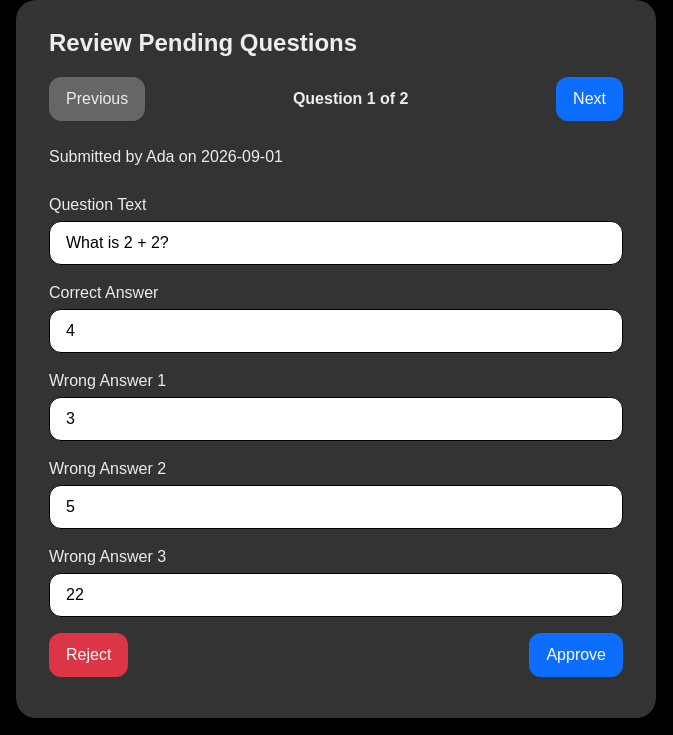
Test: PendingQuestionsReview › approves the current question with edits and shows the next one
The width and height of the screenshot is (673, 735).
Replace the text in the field labelled "Question Text" with "What is two plus two?" at point(336, 243), box [49,221,623,265]
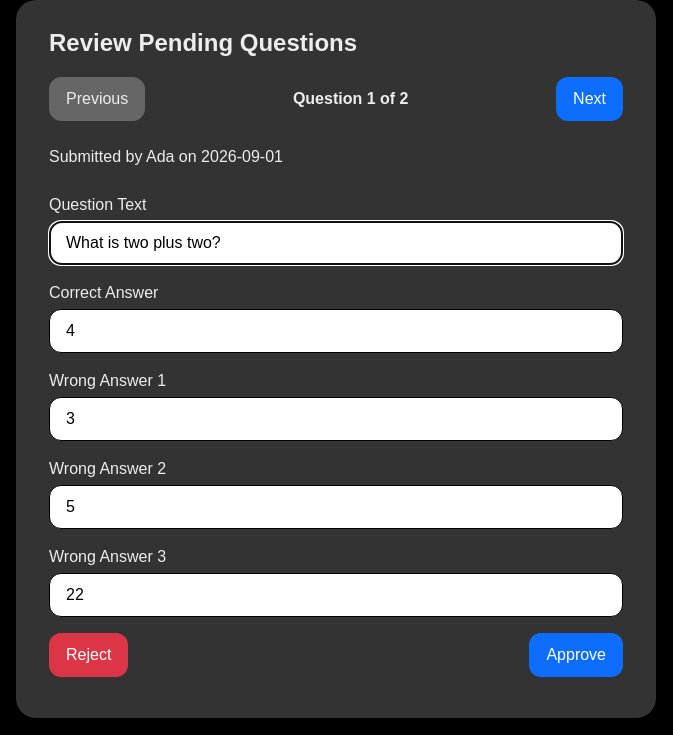
Click the button "Approve" at point(576, 655), box [529,633,623,677]
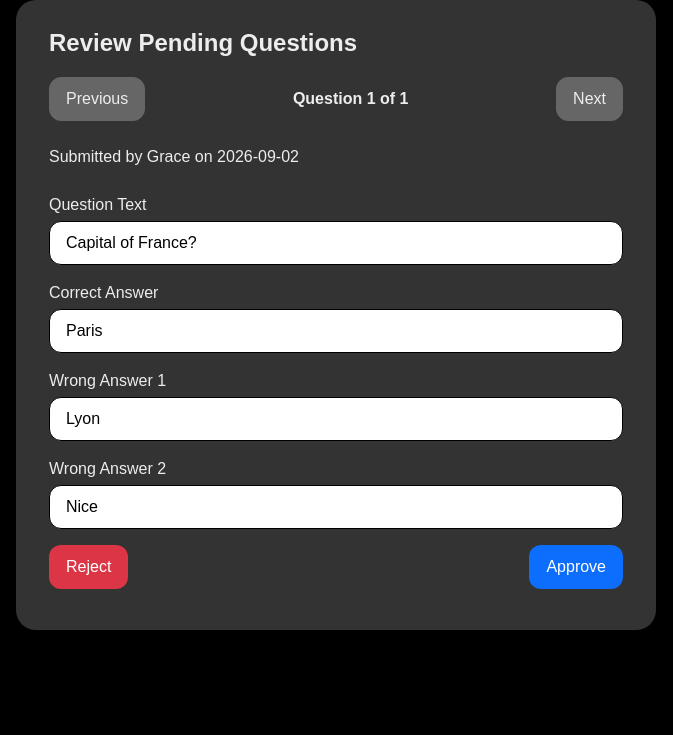
expect the text "Question 1 of 1" is shown: met, box [293,87,408,111]
expect the field labelled "Question Text" holds "Capital of France?": met, box [49,221,623,265]
